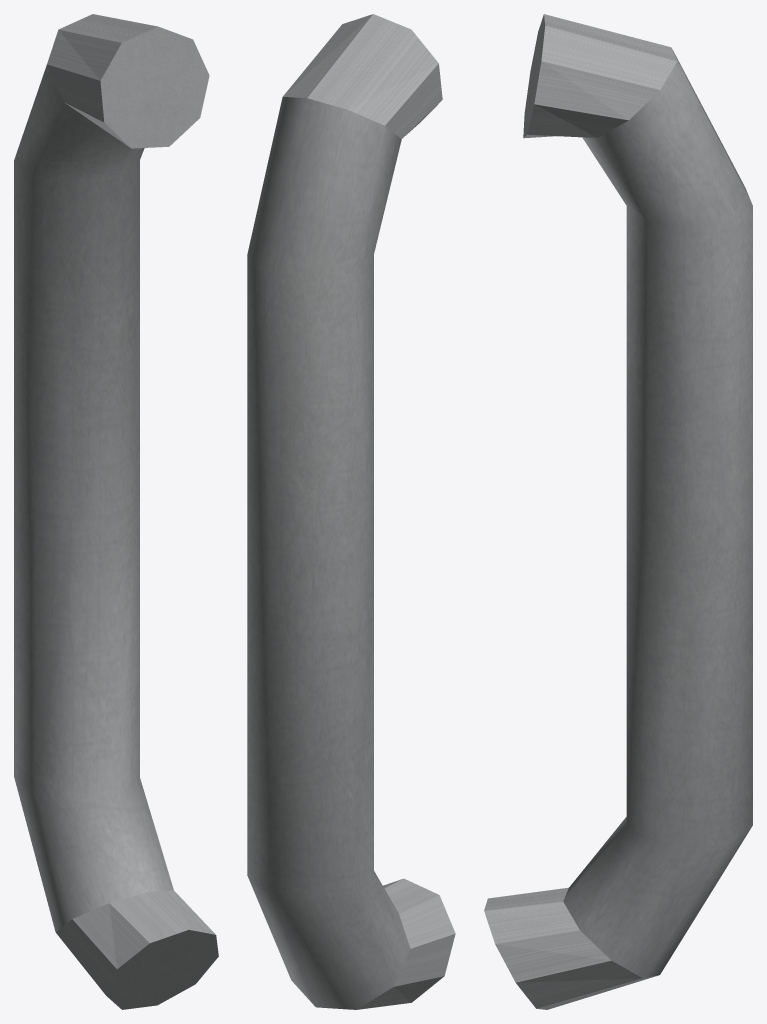
File: seinaputki.FBX
The picture shows the model from 3 angles, left to right: view 1: azimuth 30°, elevation 25°; view 2: azimuth 150°, elevation 25°; view 3: azimuth 270°, elevation 25°; orthographic projection.
Visible parts, largest first — view 1: Cylinder004; view 2: Cylinder004; view 3: Cylinder004.
Boxes of the visible parts, left/top/right/bottom form: Cylinder004: left=14, top=14, right=218, bottom=1009; Cylinder004: left=247, top=14, right=455, bottom=1009; Cylinder004: left=484, top=14, right=752, bottom=1009.
Size of the model in its own units: 0.2512 by 2.19 by 0.5426.
1 material, 1 textured.
